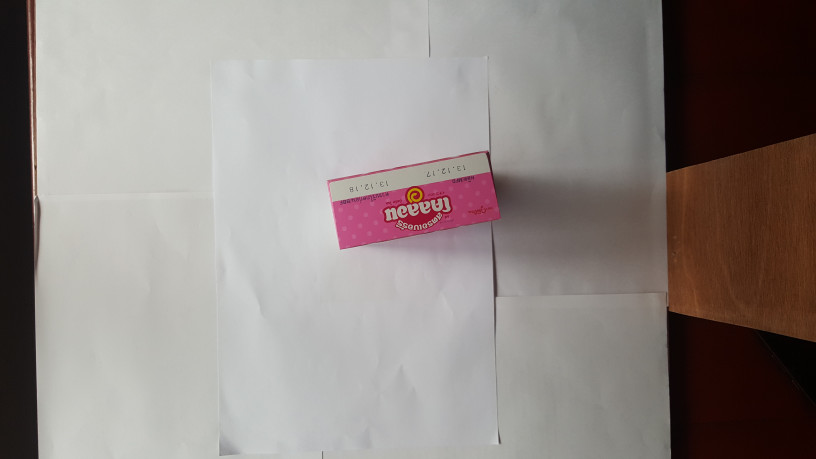collon-strawberry: (325, 146, 503, 255)
